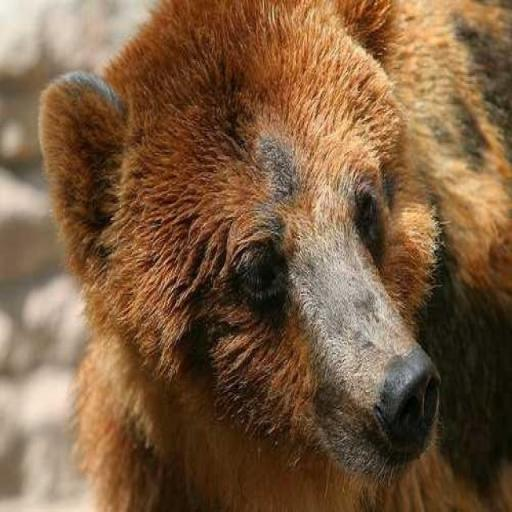Bear: (36, 0, 511, 510)
